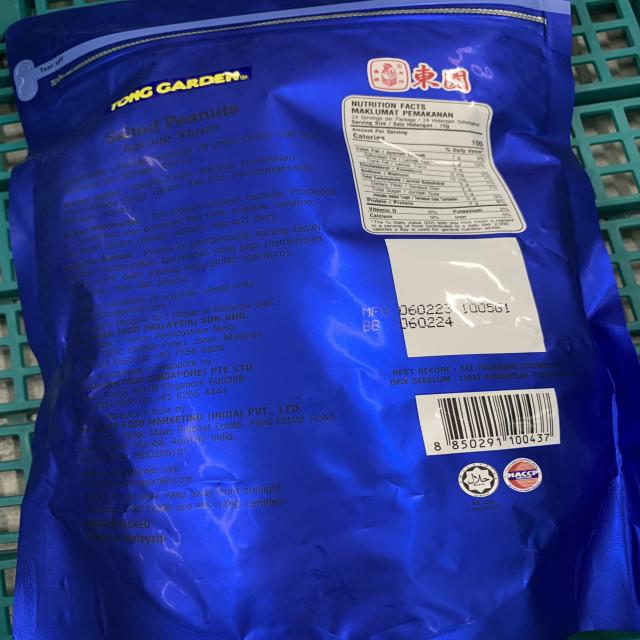object_name: (17, 14, 631, 640)
